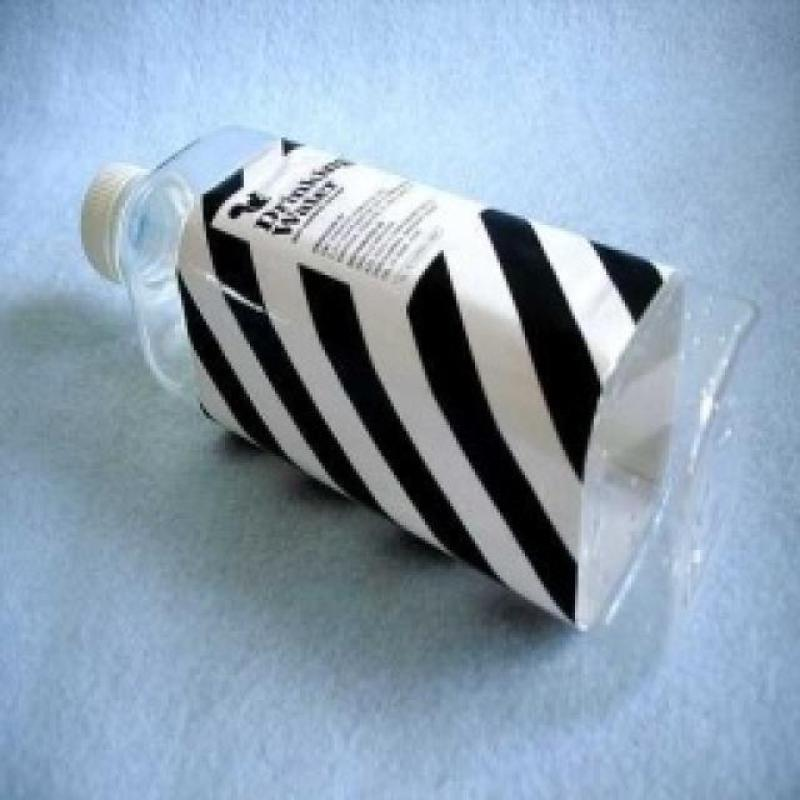botella: (82, 125, 762, 644)
